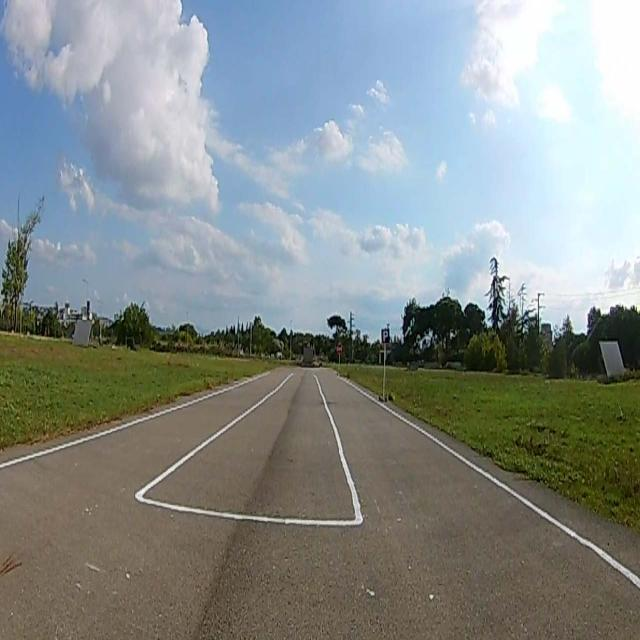park: (381, 329, 389, 343)
